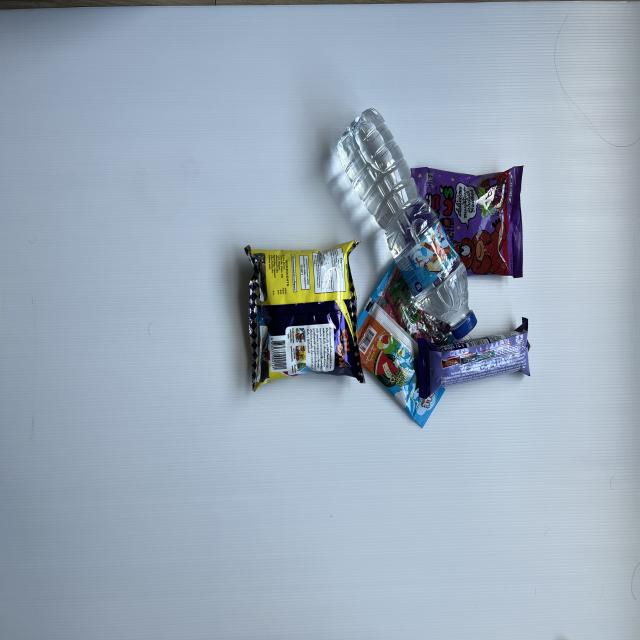candy: (356, 261, 474, 430), (408, 164, 527, 282)
cracker: (416, 316, 533, 400)
snack: (242, 240, 367, 391)
water: (337, 107, 478, 338)
